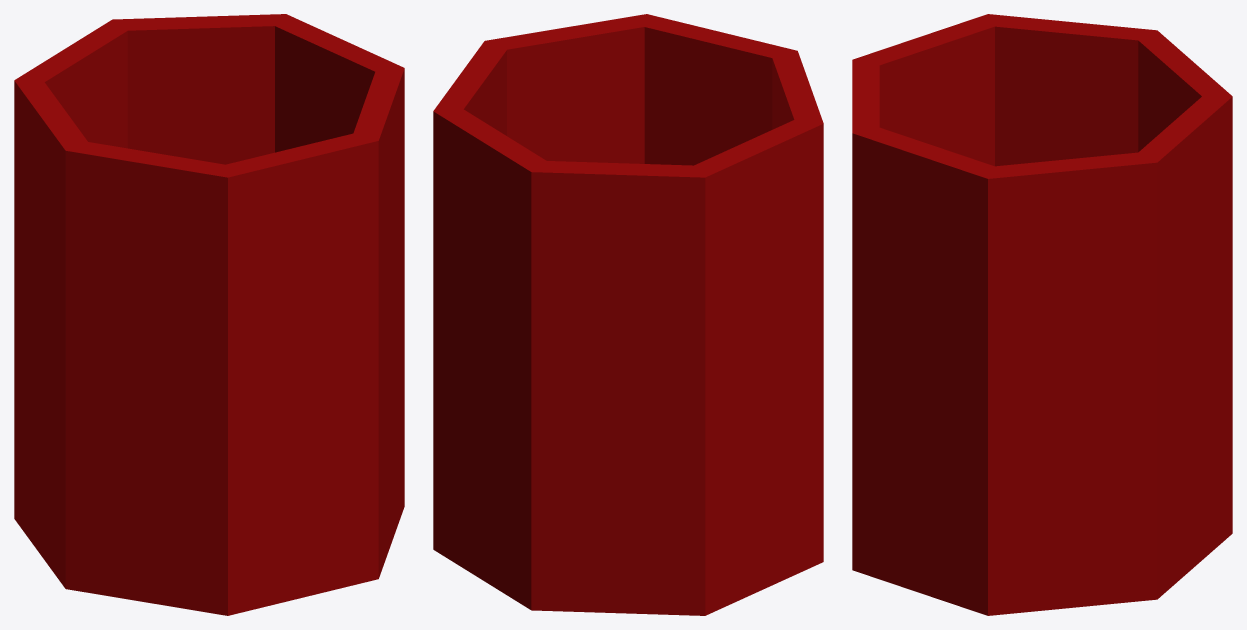
3 views of the same model, side by side, from view 1: azimuth 30°, elevation 25°; view 2: azimuth 150°, elevation 25°; view 3: azimuth 270°, elevation 25° (orthographic).
Visible parts, largest first — view 1: 文本; view 2: 文本; view 3: 文本.
Boxes of the visible parts, bbox=[...] form: 文本: bbox=[14, 14, 404, 615]; 文本: bbox=[433, 14, 823, 615]; 文本: bbox=[852, 14, 1232, 615].
Size of the model in its own units: 195 by 241 by 190.
